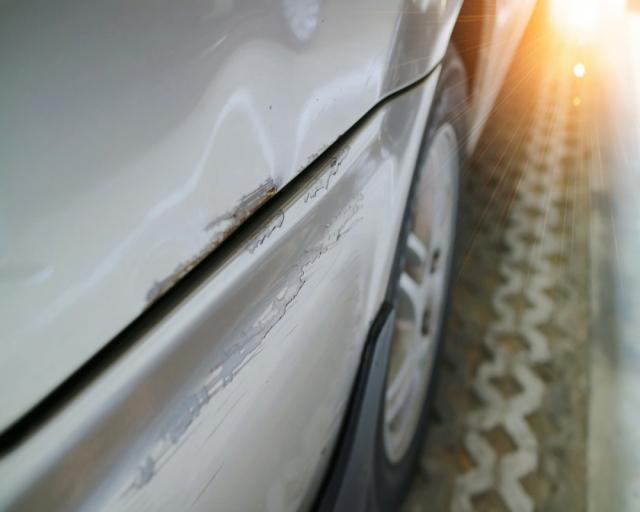scratch: (89, 184, 372, 512), (137, 172, 281, 306)
